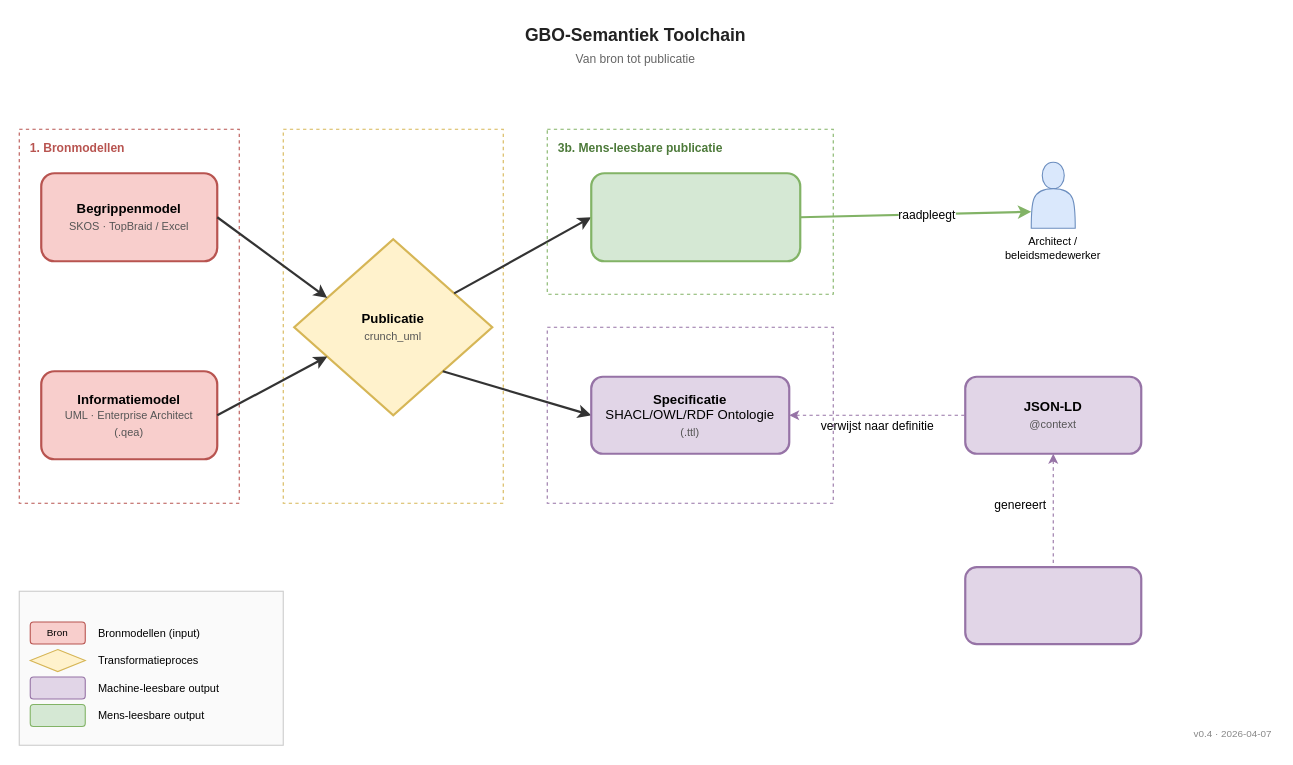
Some shapes in this 1293 by 765 pixel diagram are drawn without their labels. Each missing label, with the box of its shape:
2. Transformatie: (282, 128, 503, 503)
3a. Machine-leesbare publicatie: (546, 326, 833, 503)
GraphQL endpoint queryable API: (964, 565, 1142, 645)
Legenda: (18, 590, 283, 745)
Specificatiepagina's HTML (uit Markdown): (590, 172, 801, 262)
